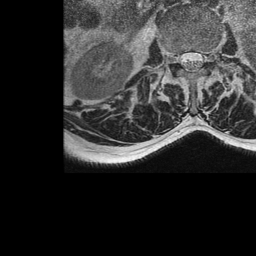CCS_normal: (188, 45, 195, 79)
LFS_normal: (204, 47, 212, 69)
LLS_normal: (195, 48, 204, 72)
RFS_normal: (171, 46, 179, 70)
RLS_normal: (179, 49, 188, 75)
